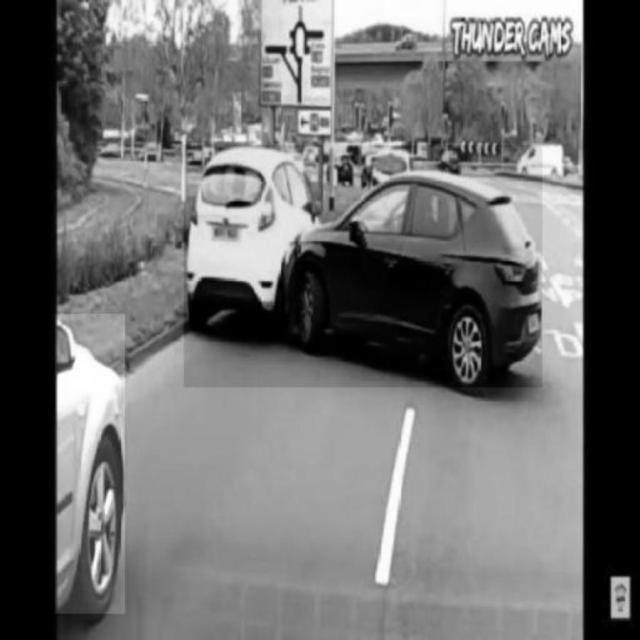accident: (184, 145, 542, 388)
vehicle: (56, 315, 126, 615)
